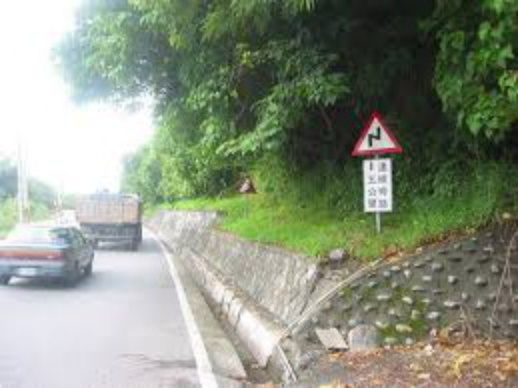Double_bend_right: (353, 111, 403, 155)
